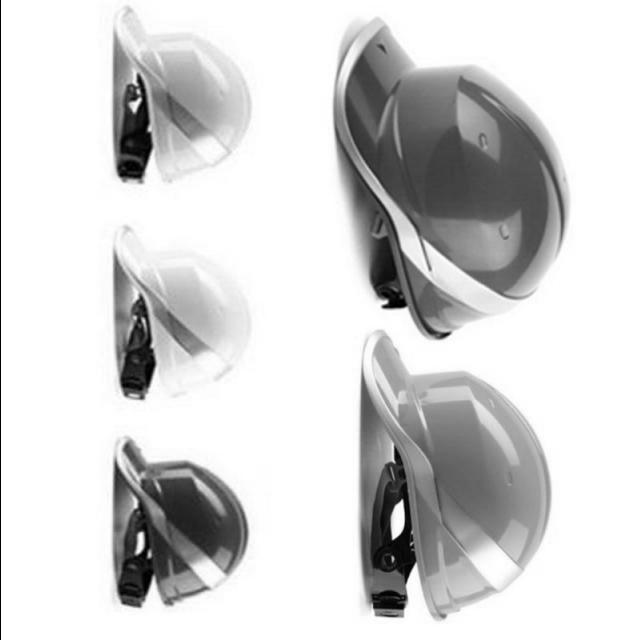construction helmet: (106, 222, 253, 405), (107, 6, 251, 187), (109, 436, 249, 610)
